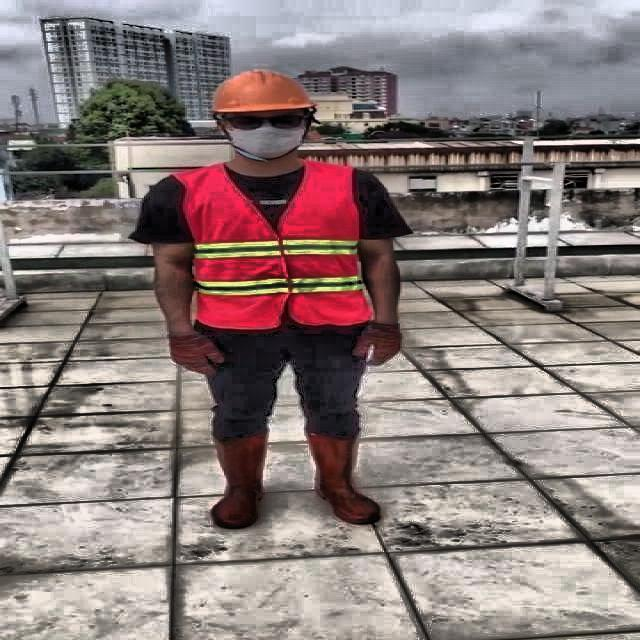safety_helmet: (210, 66, 312, 118)
safety_jacket: (188, 162, 372, 327)
